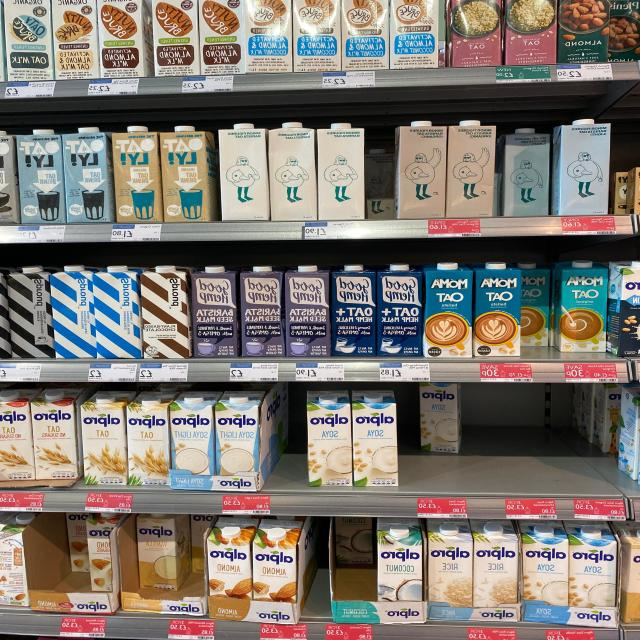cardboard: (306, 390, 401, 490), (172, 390, 264, 476), (0, 387, 82, 481), (526, 525, 620, 604), (430, 521, 518, 603), (211, 522, 296, 598), (550, 118, 614, 214), (584, 382, 640, 480), (393, 120, 448, 219), (556, 0, 640, 64), (162, 124, 215, 222), (444, 119, 495, 219), (552, 260, 606, 354), (317, 121, 366, 221), (282, 264, 333, 359), (424, 260, 472, 358), (139, 265, 189, 359), (82, 389, 129, 489), (114, 121, 160, 223), (139, 520, 200, 596), (220, 122, 266, 222), (474, 262, 521, 359), (268, 122, 314, 220), (500, 126, 550, 216), (124, 392, 171, 486), (64, 126, 110, 222), (331, 264, 379, 356), (190, 266, 238, 358), (19, 127, 64, 225), (378, 264, 424, 357), (4, 267, 51, 358), (94, 267, 140, 359), (52, 264, 96, 358), (2, 0, 54, 79), (98, 0, 151, 77), (239, 266, 282, 357), (445, 0, 505, 65), (52, 0, 100, 81), (64, 514, 113, 593), (292, 0, 344, 72), (150, 1, 199, 75), (375, 525, 423, 600), (246, 0, 294, 74), (341, 0, 391, 70), (200, 0, 247, 74), (418, 383, 465, 457), (605, 257, 640, 356), (389, 0, 439, 69), (504, 0, 558, 62), (518, 262, 548, 348)
